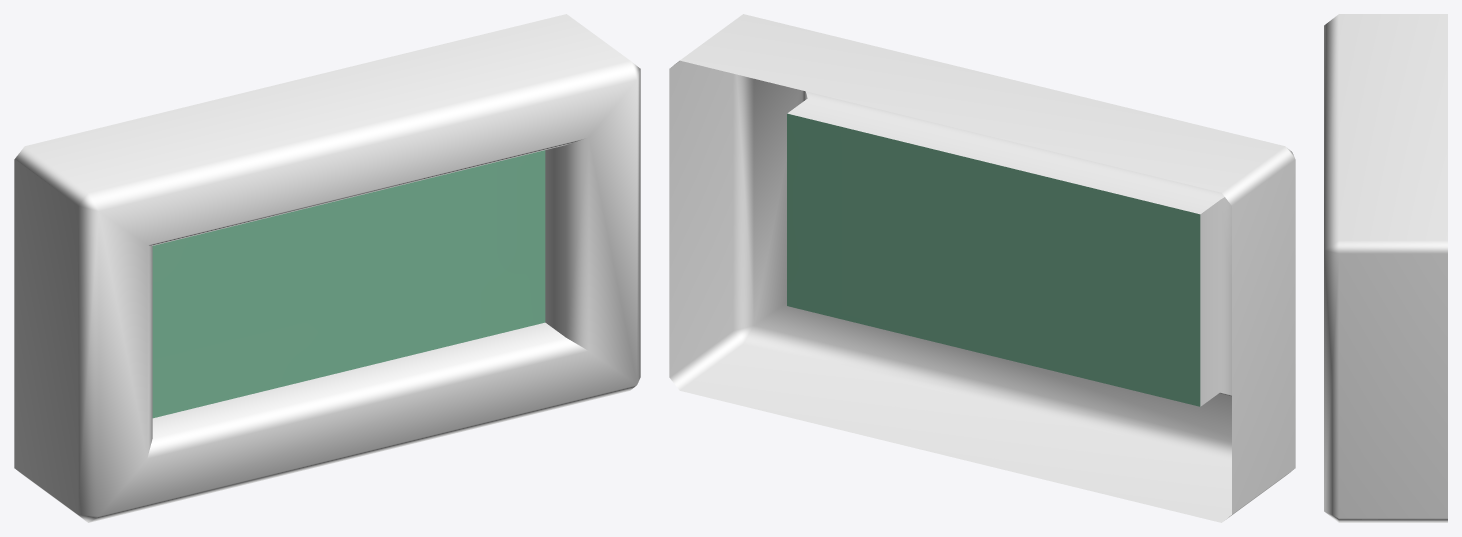
The model's file is Decor_Khungtranh_03.fbx.
3 views of the same model, side by side, from view 1: azimuth 30°, elevation 25°; view 2: azimuth 150°, elevation 25°; view 3: azimuth 270°, elevation 25° (orthographic). The views are drawn at different scales.
Visible parts, largest first — view 1: Decor_Khungtranh_03; view 2: Decor_Khungtranh_03; view 3: Decor_Khungtranh_03.
Boxes of the visible parts, left/top/right/bottom form: Decor_Khungtranh_03: left=14, top=14, right=640, bottom=522; Decor_Khungtranh_03: left=669, top=14, right=1295, bottom=522; Decor_Khungtranh_03: left=1324, top=14, right=1447, bottom=522.
Bounding box in the file's own units: 64.45 × 36.16 × 14.38.
